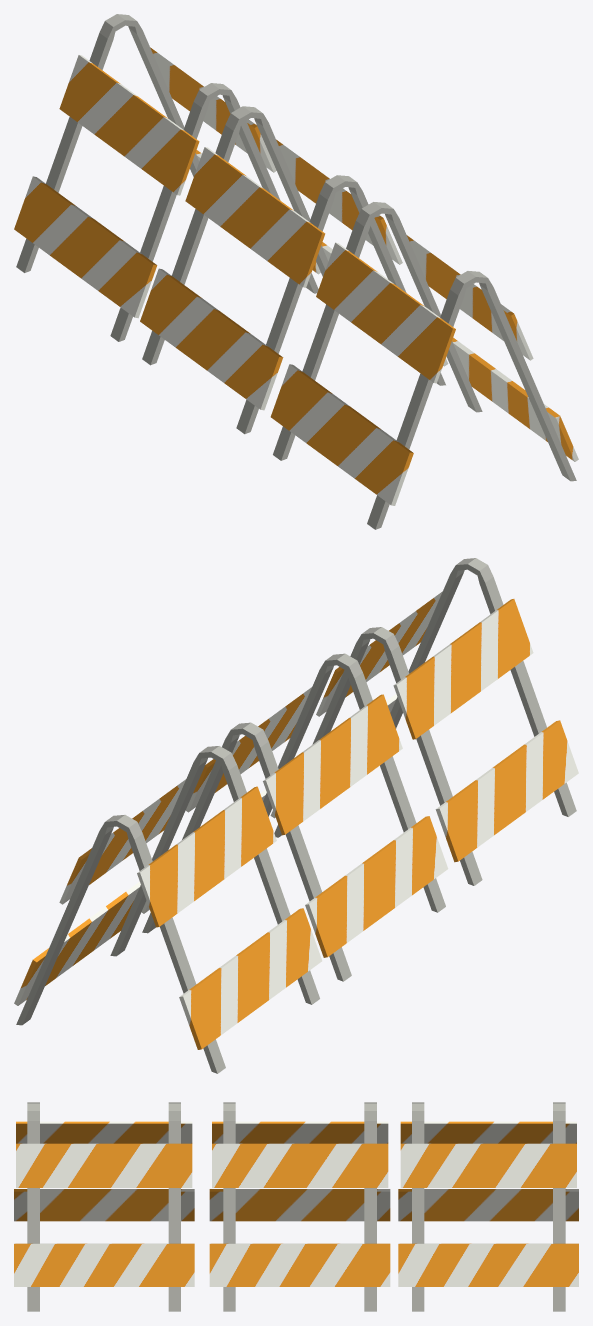
The model's file is barrier.fbx.
3 renders of one model, top to bottom at view 1: azimuth 30°, elevation 25°; view 2: azimuth 150°, elevation 25°; view 3: azimuth 270°, elevation 25°, orthographic. The views are drawn at different scales.
Visible parts, largest first — view 1: barrier_l; view 2: barrier_l; view 3: barrier_l.
Boxes of the visible parts, box(x1,y1,x2,y2) form: barrier_l: box(14, 14, 578, 529); barrier_l: box(14, 558, 578, 1073); barrier_l: box(14, 1102, 578, 1311).
Size of the model in its own units: 79.47 by 26.56 by 24.52.
